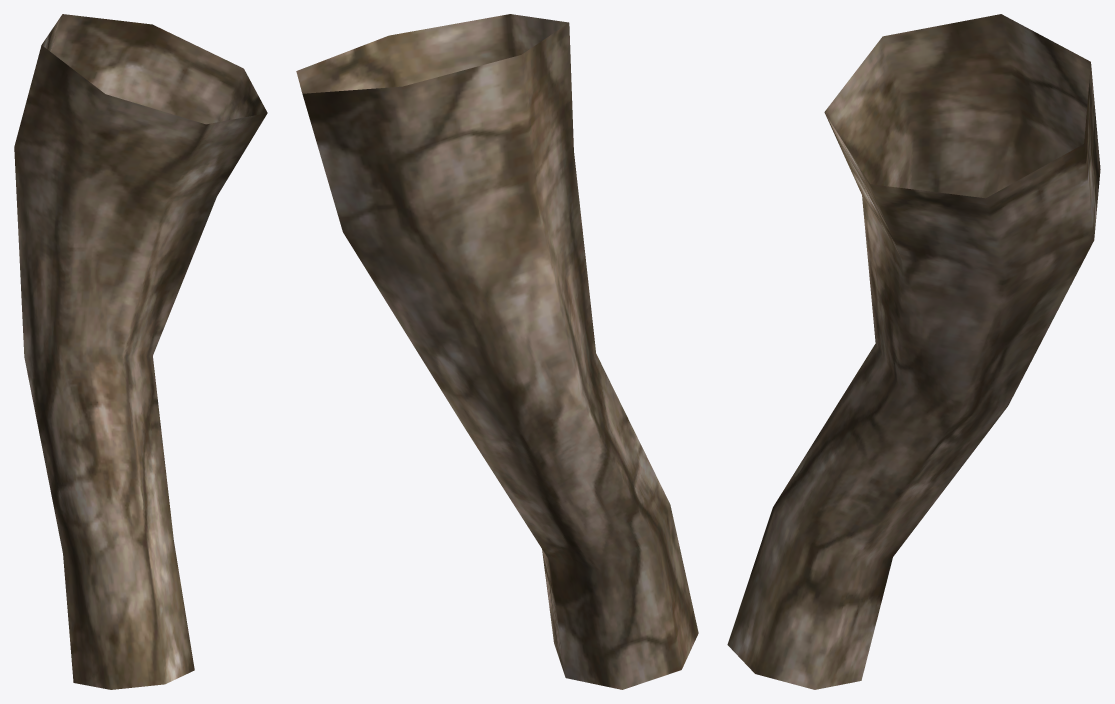
Rendered from EKH_JAIL_PS_JA_PILLAR2299388.fbx.
3 views of the same model, side by side, from view 1: azimuth 30°, elevation 25°; view 2: azimuth 150°, elevation 25°; view 3: azimuth 270°, elevation 25° (orthographic). The views are drawn at different scales.
Visible parts, largest first — view 1: EKH_JAIL_PS_JA_PILLAR2299388; view 2: EKH_JAIL_PS_JA_PILLAR2299388; view 3: EKH_JAIL_PS_JA_PILLAR2299388.
Boxes of the visible parts, x1=… form: EKH_JAIL_PS_JA_PILLAR2299388: x1=14, y1=14, x2=267, y2=689; EKH_JAIL_PS_JA_PILLAR2299388: x1=296, y1=14, x2=698, y2=689; EKH_JAIL_PS_JA_PILLAR2299388: x1=727, y1=14, x2=1100, y2=689.
Size of the model in its own units: 23135 by 51367 by 26580.
Materials: 1 (1 with a texture image).
